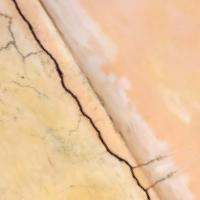crack: (5, 0, 159, 199)
